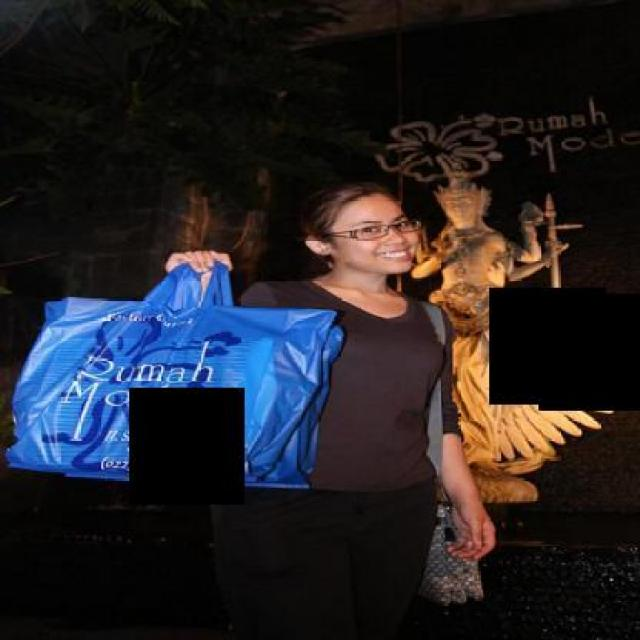plastic bag: (0, 254, 345, 489)
